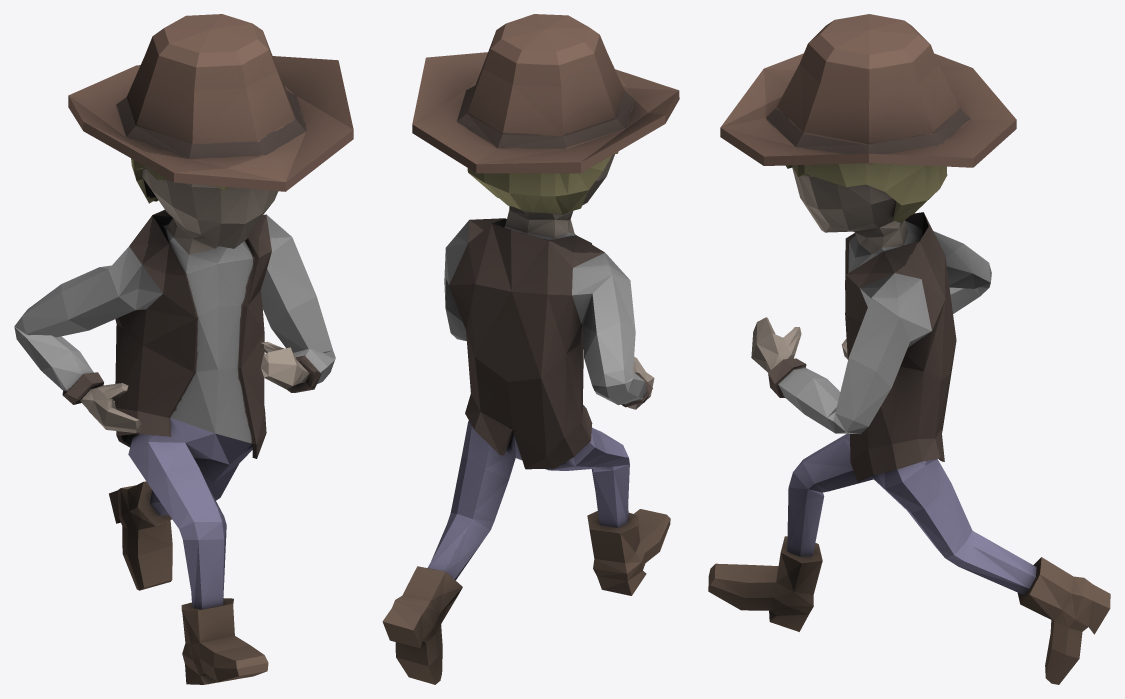
File: char_8.obj
3 views of the same model, side by side, from view 1: azimuth 30°, elevation 25°; view 2: azimuth 150°, elevation 25°; view 3: azimuth 270°, elevation 25° (orthographic). The views are drawn at different scales.
Parts seen in each view (by area): view 1: Cube; view 2: Cube; view 3: Cube.
Part boxes in pixels (x1=…): Cube: x1=14, y1=14, x2=353, y2=684; Cube: x1=382, y1=14, x2=679, y2=684; Cube: x1=708, y1=14, x2=1110, y2=684.
Size of the model in its own units: 3.67 by 8.29 by 4.78.
Materials: 1 (1 with a texture image).
